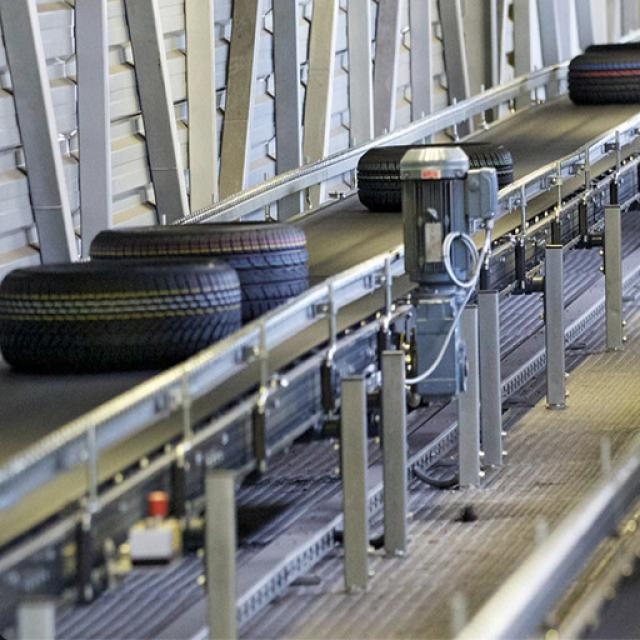conveyor: (2, 66, 640, 487)
